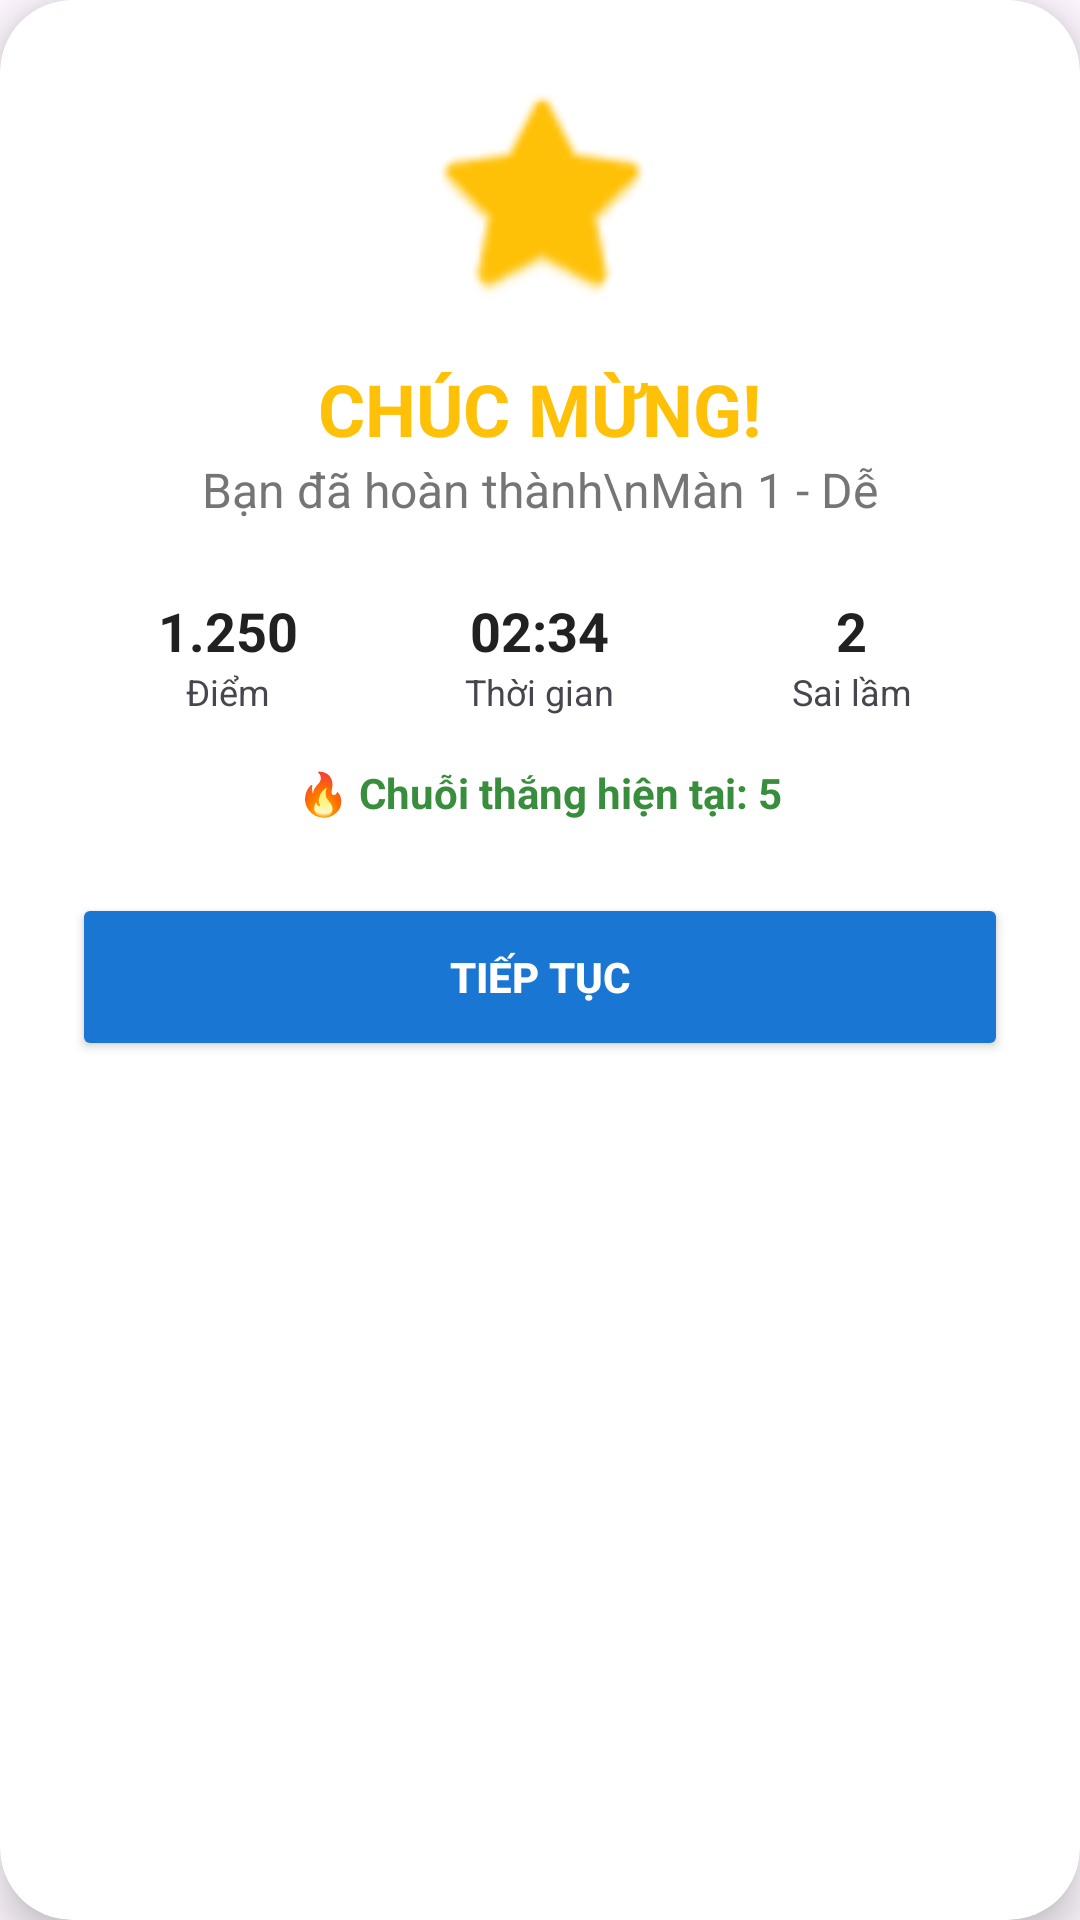

Icons on this 1080 x 1920 Android screen, each with its box as (x1, y1, x2, y2):
star on: (441, 96, 642, 292)
